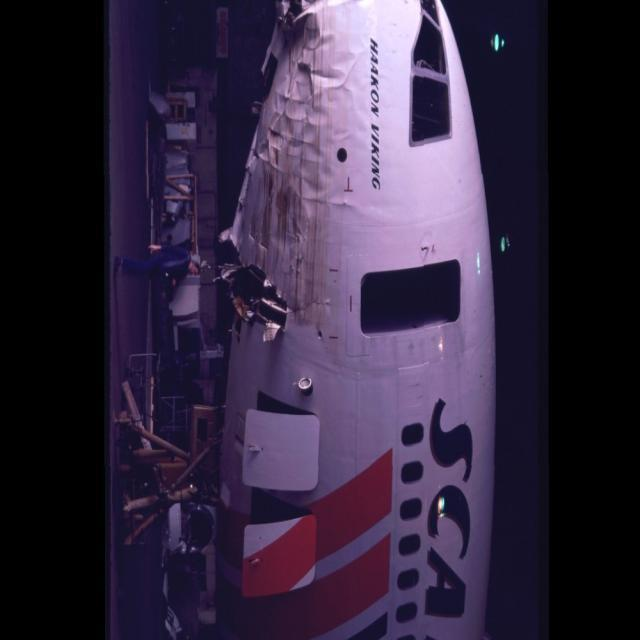crack: (288, 294, 338, 323)
dent: (254, 99, 343, 250), (311, 56, 361, 93)
